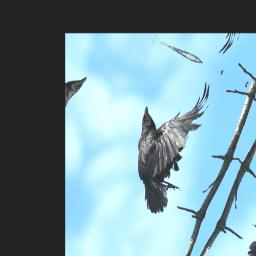Crow: (108, 59, 227, 219)
